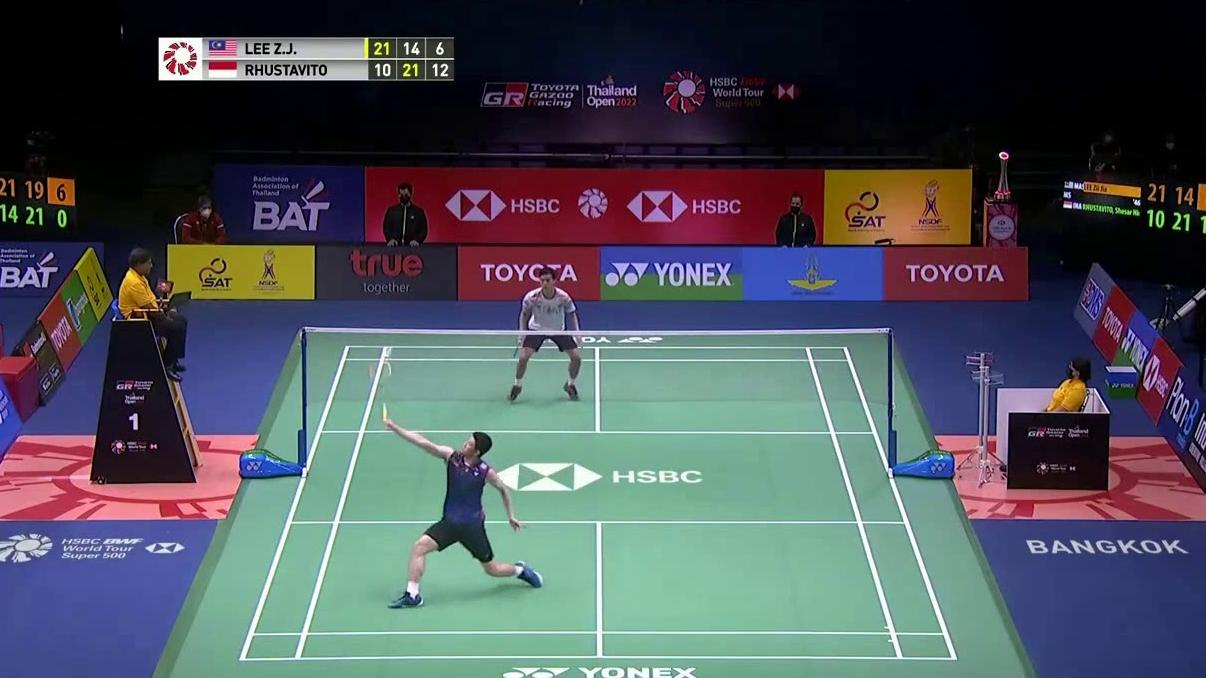racket: (367, 359, 394, 426), (510, 338, 526, 362)
shuttle: (381, 343, 395, 359)
